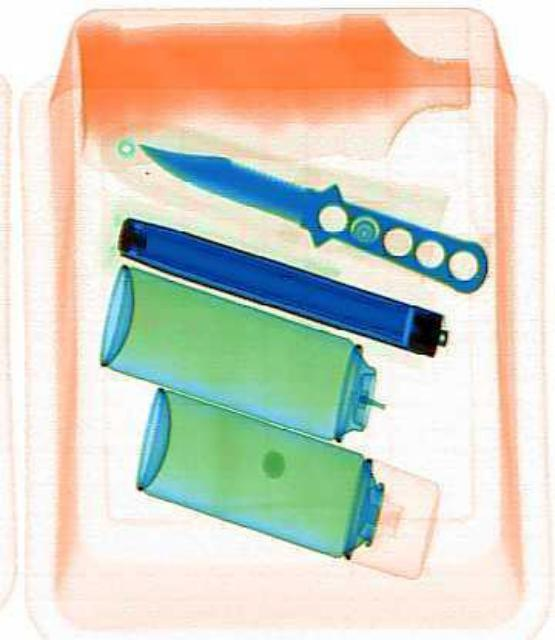Knife: (128, 117, 491, 299)
